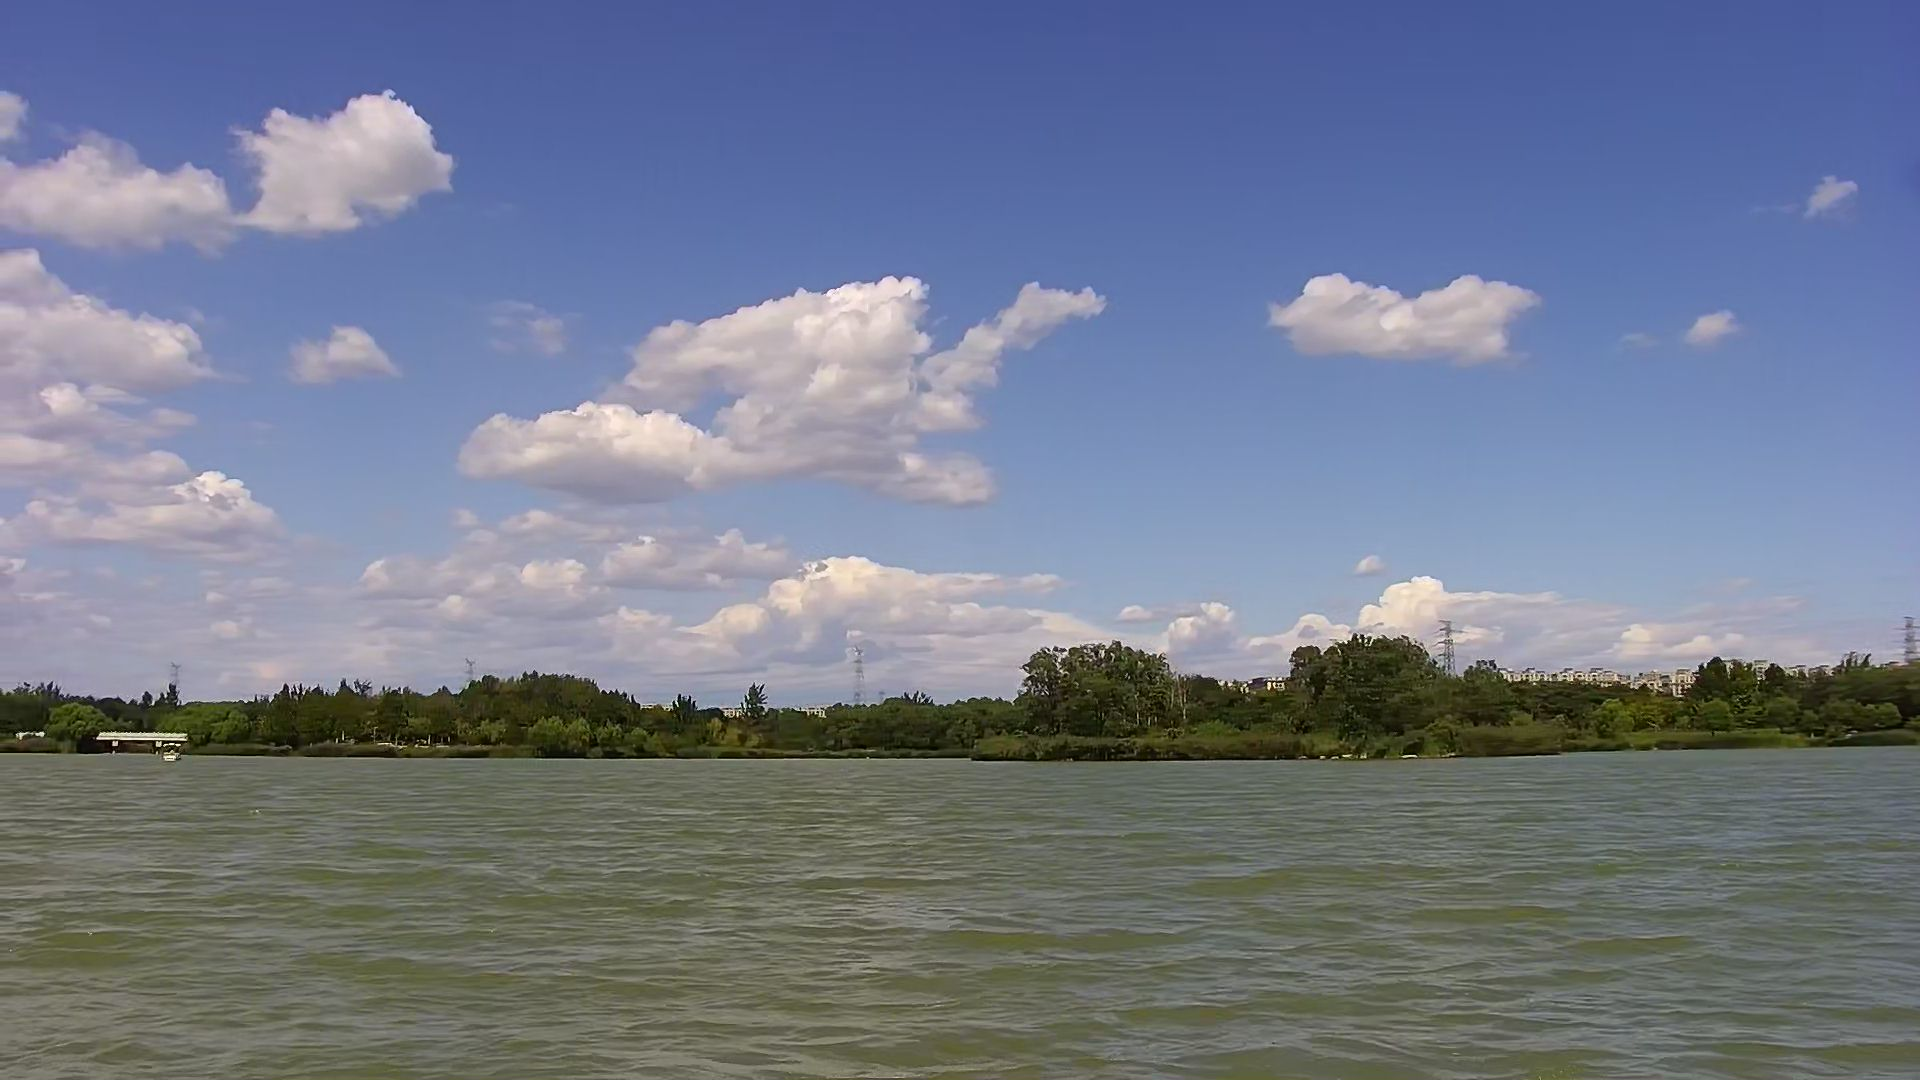boat: (156, 740, 195, 767)
bridge: (91, 723, 208, 762)
